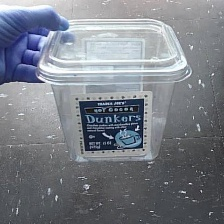plastic_box: (28, 9, 198, 169)
